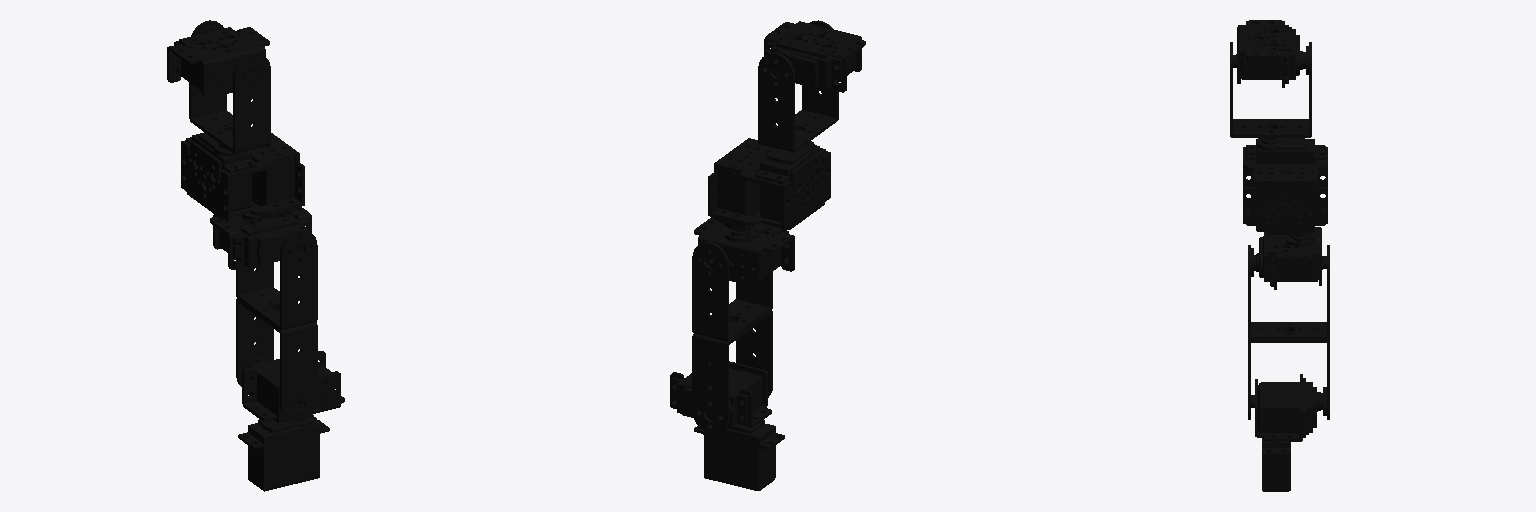
The robot description file, URDF, robot "robotic_arm_6_dof_description":
<?xml version="1.0" encoding="utf-8"?>
<!-- This URDF was automatically created by SolidWorks to URDF Exporter! Originally created by [author] ([email redacted]) 
     Commit Version: 1.6.0-4-g7f85cfe  Build Version: 1.6.7995.38578
     For more information, please see http://wiki.ros.org/sw_urdf_exporter -->
<robot
  name="robotic_arm_6_dof_description">
  <link
    name="base_link">
    <inertial>
      <origin
        xyz="0.0002062 5.7446E-07 0.020385"
        rpy="0 0 0" />
      <mass
        value="0.043211" />
      <inertia
        ixx="7.2852E-06"
        ixy="5.7658E-12"
        ixz="-1.761E-07"
        iyy="1.1902E-05"
        iyz="-2.8656E-10"
        izz="7.5015E-06" />
    </inertial>
    <visual>
      <origin
        xyz="0 0 0"
        rpy="0 0 0" />
      <geometry>
        <mesh
          filename="package://robotic_arm_6_dof_description/meshes/base_link.STL" />
      </geometry>
      <material
        name="">
        <color
          rgba="0.10196 0.10196 0.10196 1" />
      </material>
    </visual>
    <collision>
      <origin
        xyz="0 0 0"
        rpy="0 0 0" />
      <geometry>
        <mesh
          filename="package://robotic_arm_6_dof_description/meshes/base_link.STL" />
      </geometry>
    </collision>
  </link>
  <link
    name="Link1">
    <inertial>
      <origin
        xyz="0.0002958 0.016198 0.0052486"
        rpy="0 0 0" />
      <mass
        value="0.064163" />
      <inertia
        ixx="1.113E-05"
        ixy="1.098E-08"
        ixz="-1.268E-07"
        iyy="1.9471E-05"
        iyz="4.6747E-07"
        izz="1.3237E-05" />
    </inertial>
    <visual>
      <origin
        xyz="0 0 0"
        rpy="0 0 0" />
      <geometry>
        <mesh
          filename="package://robotic_arm_6_dof_description/meshes/Link1.STL" />
      </geometry>
      <material
        name="">
        <color
          rgba="0.10196 0.10196 0.10196 1" />
      </material>
    </visual>
    <collision>
      <origin
        xyz="0 0 0"
        rpy="0 0 0" />
      <geometry>
        <mesh
          filename="package://robotic_arm_6_dof_description/meshes/Link1.STL" />
      </geometry>
    </collision>
  </link>
  <joint
    name="Base_to_link1"
    type="revolute">
    <origin
      xyz="0.0101 0 0.0407"
      rpy="1.5708 0 3.1181" />
    <parent
      link="base_link" />
    <child
      link="Link1" />
    <axis
      xyz="0 1 0" />
    <limit
      lower="-1.5708"
      upper="1.5708"
      effort="1.177"
      velocity="8.0554" />
  </joint>
  <link
    name="Link2">
    <inertial>
      <origin
        xyz="0.047642 0.00932 5.3768E-06"
        rpy="0 0 0" />
      <mass
        value="0.05648" />
      <inertia
        ixx="3.3108E-05"
        ixy="3.0091E-20"
        ixz="5.5206E-21"
        iyy="2.3384E-05"
        iyz="-1.2174E-22"
        izz="5.0731E-05" />
    </inertial>
    <visual>
      <origin
        xyz="0 0 0"
        rpy="0 0 0" />
      <geometry>
        <mesh
          filename="package://robotic_arm_6_dof_description/meshes/Link2.STL" />
      </geometry>
      <material
        name="">
        <color
          rgba="0.10196 0.10196 0.10196 1" />
      </material>
    </visual>
    <collision>
      <origin
        xyz="0 0 0"
        rpy="0 0 0" />
      <geometry>
        <mesh
          filename="package://robotic_arm_6_dof_description/meshes/Link2.STL" />
      </geometry>
    </collision>
  </link>
  <joint
    name="Link1_to_link2"
    type="revolute">
    <origin
      xyz="0.010147 0.01859 -0.00023822"
      rpy="1.5943 0 1.5708" />
    <parent
      link="Link1" />
    <child
      link="Link2" />
    <axis
      xyz="0 0.99695 0.078035" />
    <limit
      lower="-1.5708"
      upper="1.5708"
      effort="1.177"
      velocity="8.0554" />
  </joint>
  <link
    name="Link3">
    <inertial>
      <origin
        xyz="0.0016081 -0.010795 -0.0093584"
        rpy="0 0 0" />
      <mass
        value="0.064286" />
      <inertia
        ixx="1.9431E-05"
        ixy="-4.6752E-07"
        ixz="3.0542E-08"
        iyy="1.3285E-05"
        iyz="-1.7782E-07"
        izz="1.1141E-05" />
    </inertial>
    <visual>
      <origin
        xyz="0 0 0"
        rpy="0 0 0" />
      <geometry>
        <mesh
          filename="package://robotic_arm_6_dof_description/meshes/Link3.STL" />
      </geometry>
      <material
        name="">
        <color
          rgba="0.10196 0.10196 0.10196 1" />
      </material>
    </visual>
    <collision>
      <origin
        xyz="0 0 0"
        rpy="0 0 0" />
      <geometry>
        <mesh
          filename="package://robotic_arm_6_dof_description/meshes/Link3.STL" />
      </geometry>
    </collision>
  </link>
  <joint
    name="Link2_to_link3"
    type="revolute">
    <origin
      xyz="0.1051 0 0"
      rpy="3.1416 -0.0036831 0" />
    <parent
      link="Link2" />
    <child
      link="Link3" />
    <axis
      xyz="0 -1 0" />
    <limit
      lower="-1.5708"
      upper="1.5708"
      effort="1.177"
      velocity="8.0554" />
  </joint>
  <link
    name="Link4">
    <inertial>
      <origin
        xyz="0.009832 -0.033824 -0.014755"
        rpy="0 0 0" />
      <mass
        value="0.12825" />
      <inertia
        ixx="3.8849E-05"
        ixy="3.5219E-07"
        ixz="-1.4557E-14"
        iyy="4.3643E-05"
        iyz="7.3088E-07"
        izz="4.1245E-05" />
    </inertial>
    <visual>
      <origin
        xyz="0 0 0"
        rpy="0 0 0" />
      <geometry>
        <mesh
          filename="package://robotic_arm_6_dof_description/meshes/Link4.STL" />
      </geometry>
      <material
        name="">
        <color
          rgba="0.10196 0.10196 0.10196 1" />
      </material>
    </visual>
    <collision>
      <origin
        xyz="0 0 0"
        rpy="0 0 0" />
      <geometry>
        <mesh
          filename="package://robotic_arm_6_dof_description/meshes/Link4.STL" />
      </geometry>
    </collision>
  </link>
  <joint
    name="Link3_to_link4"
    type="revolute">
    <origin
      xyz="0.012337 -0.01663 -0.010005"
      rpy="-0.0036831 0 1.5708" />
    <parent
      link="Link3" />
    <child
      link="Link4" />
    <axis
      xyz="0 -1 0" />
    <limit
      lower="-1.5708"
      upper="1.5708"
      effort="1.177"
      velocity="8.0554" />
  </joint>
  <link
    name="Link5">
    <inertial>
      <origin
        xyz="1.3878E-17 0.026917 2.7756E-17"
        rpy="0 0 0" />
      <mass
        value="0.029193" />
      <inertia
        ixx="2.4044E-05"
        ixy="-1.0846E-21"
        ixz="4.0741E-06"
        iyy="1.662E-05"
        iyz="-5.8432E-21"
        izz="1.3032E-05" />
    </inertial>
    <visual>
      <origin
        xyz="0 0 0"
        rpy="0 0 0" />
      <geometry>
        <mesh
          filename="package://robotic_arm_6_dof_description/meshes/Link5.STL" />
      </geometry>
      <material
        name="">
        <color
          rgba="0.10196 0.10196 0.10196 1" />
      </material>
    </visual>
    <collision>
      <origin
        xyz="0 0 0"
        rpy="0 0 0" />
      <geometry>
        <mesh
          filename="package://robotic_arm_6_dof_description/meshes/Link5.STL" />
      </geometry>
    </collision>
  </link>
  <joint
    name="Link4_to_Link5"
    type="revolute">
    <origin
      xyz="0.0202 -0.061231 -0.0302"
      rpy="-3.1416 1.2523 0" />
    <parent
      link="Link4" />
    <child
      link="Link5" />
    <axis
      xyz="0 1 0" />
    <limit
      lower="-1.5708"
      upper="1.5708"
      effort="1.177"
      velocity="8.0554" />
  </joint>
  <link
    name="Link6">
    <inertial>
      <origin
        xyz="0.0016221 -0.0021085 0.0091189"
        rpy="0 0 0" />
      <mass
        value="0.06585" />
      <inertia
        ixx="1.9439E-05"
        ixy="-4.6583E-07"
        ixz="-8.2145E-08"
        iyy="1.3292E-05"
        iyz="1.8072E-07"
        izz="1.115E-05" />
    </inertial>
    <visual>
      <origin
        xyz="0 0 0"
        rpy="0 0 0" />
      <geometry>
        <mesh
          filename="package://robotic_arm_6_dof_description/meshes/Link6.STL" />
      </geometry>
      <material
        name="">
        <color
          rgba="0.10196 0.10196 0.10196 1" />
      </material>
    </visual>
    <collision>
      <origin
        xyz="0 0 0"
        rpy="0 0 0" />
      <geometry>
        <mesh
          filename="package://robotic_arm_6_dof_description/meshes/Link6.STL" />
      </geometry>
    </collision>
  </link>
  <joint
    name="Link5_to_link6"
    type="revolute">
    <origin
      xyz="0 0.0608 0"
      rpy="1.2523 -0.0031031 1.5614" />
    <parent
      link="Link5" />
    <child
      link="Link6" />
    <axis
      xyz="0 1 0" />
    <limit
      lower="-1.5708"
      upper="1.5708"
      effort="1.177"
      velocity="8.0554" />
  </joint>
</robot>

--- Facts derived from the render (not from the file) ---
Views: 3 orthographic renders of the robot side by side, from view 1: azimuth 30°, elevation 25°; view 2: azimuth 150°, elevation 25°; view 3: azimuth 270°, elevation 25°.
Model robotic_arm_6_dof_description with 7 links and 6 joints (6 revolute), rooted at base_link, posed every joint at zero.
Visible links, largest first — view 1: Link2, Link4, Link5, base_link, Link6, Link3, Link1; view 2: Link2, Link4, Link5, Link6, base_link, Link3, Link1; view 3: Link4, Link6, Link1, Link3, Link2, Link5, base_link.
Link boxes in pixels (x1=…): Link2: x1=236, y1=229, x2=317, y2=422; Link4: x1=181, y1=132, x2=304, y2=221; Link5: x1=189, y1=20, x2=270, y2=153; base_link: x1=238, y1=414, x2=329, y2=491; Link6: x1=167, y1=26, x2=269, y2=98; Link3: x1=210, y1=207, x2=311, y2=269; Link1: x1=242, y1=351, x2=344, y2=422; Link2: x1=692, y1=242, x2=772, y2=433; Link4: x1=708, y1=138, x2=830, y2=241; Link5: x1=758, y1=20, x2=838, y2=152; Link6: x1=764, y1=21, x2=865, y2=92; base_link: x1=694, y1=420, x2=784, y2=490; Link3: x1=694, y1=217, x2=794, y2=286; Link1: x1=670, y1=361, x2=771, y2=427; Link4: x1=1243, y1=138, x2=1327, y2=246; Link6: x1=1233, y1=20, x2=1308, y2=87; Link1: x1=1255, y1=374, x2=1320, y2=441; Link3: x1=1251, y1=227, x2=1326, y2=289; Link2: x1=1248, y1=245, x2=1329, y2=419; Link5: x1=1230, y1=42, x2=1311, y2=139; base_link: x1=1262, y1=438, x2=1290, y2=491.
Bounding box of the posed robot: 0.1185 × 0.0686 × 0.3113 m (x, y, z).
7 mesh visuals loaded from 7 distinct referenced files (7 binary STL).